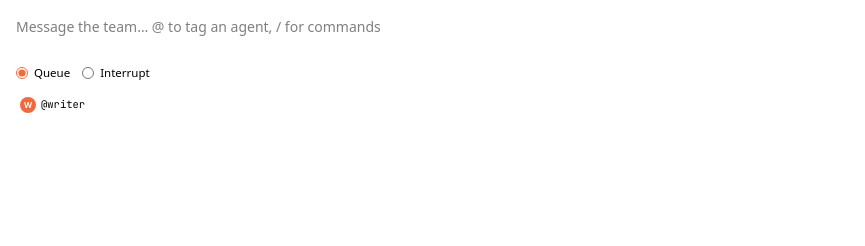
Test: PG-1.5 Domain composer: a failed post keeps its text › a post that fails on the wire keeps the text, and Resend sends it again
In the text box labelled "Message": [432, 37] box [16, 16, 848, 58], type "@writer Write a tagline"
Then press Enter
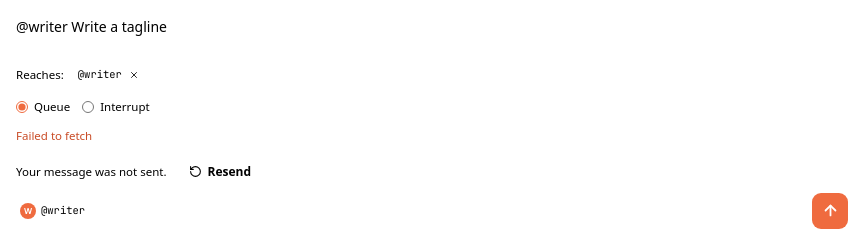
Click the button "Resend": [220, 172] box [174, 156, 265, 186]
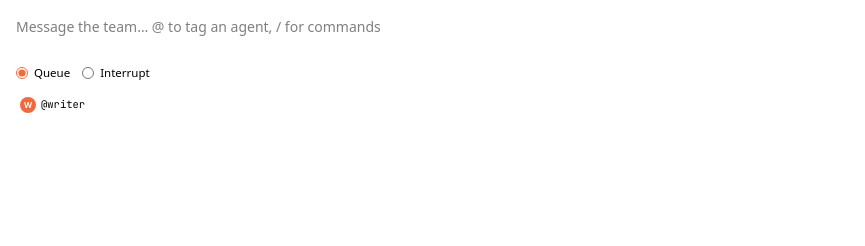
Now the text box labelled "Message" is empty, box [16, 16, 848, 58]
Now the button "Resend" is gone
